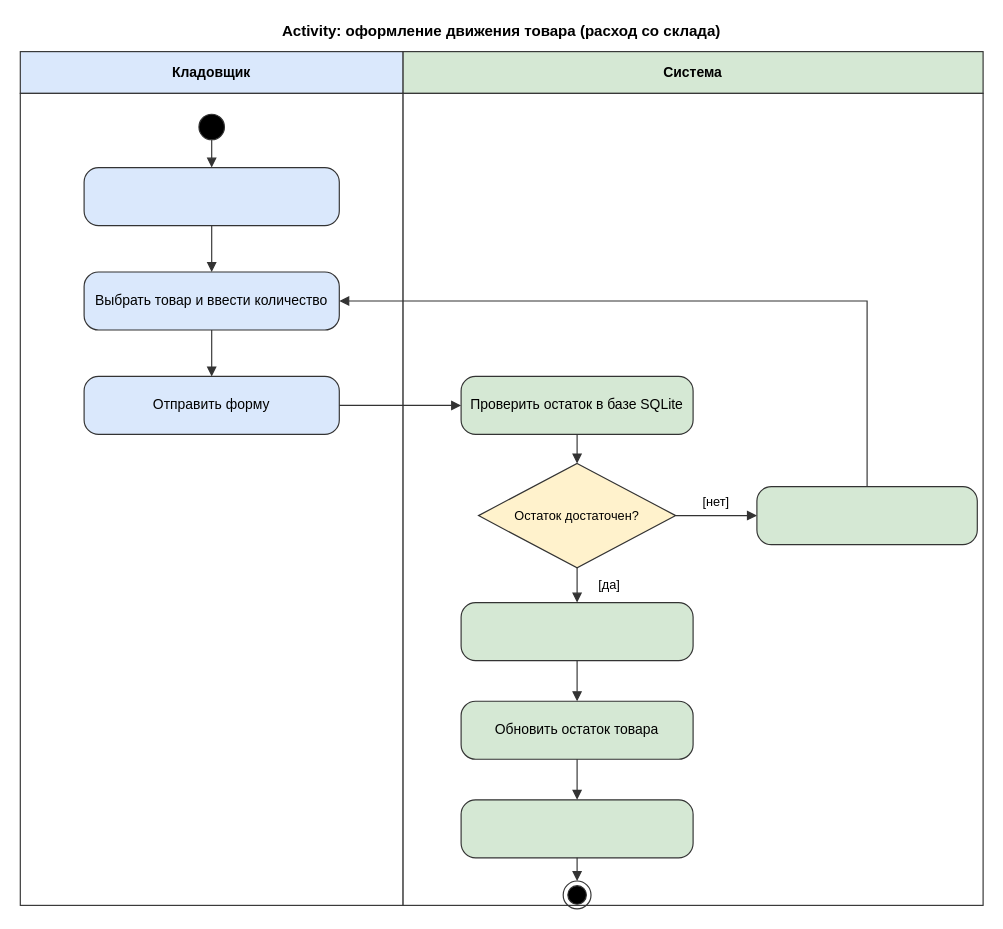
This 1003x929 diagram has some shape labels left out. The centre of each missing label's shape, as x and y in pixels:
"Открыть форму движения товара" goes at [211,196].
"Показать подтверждение" goes at [576,828].
"Показать сообщение об ошибке" goes at [866,515].
"Сохранить движение товара" goes at [576,631].
